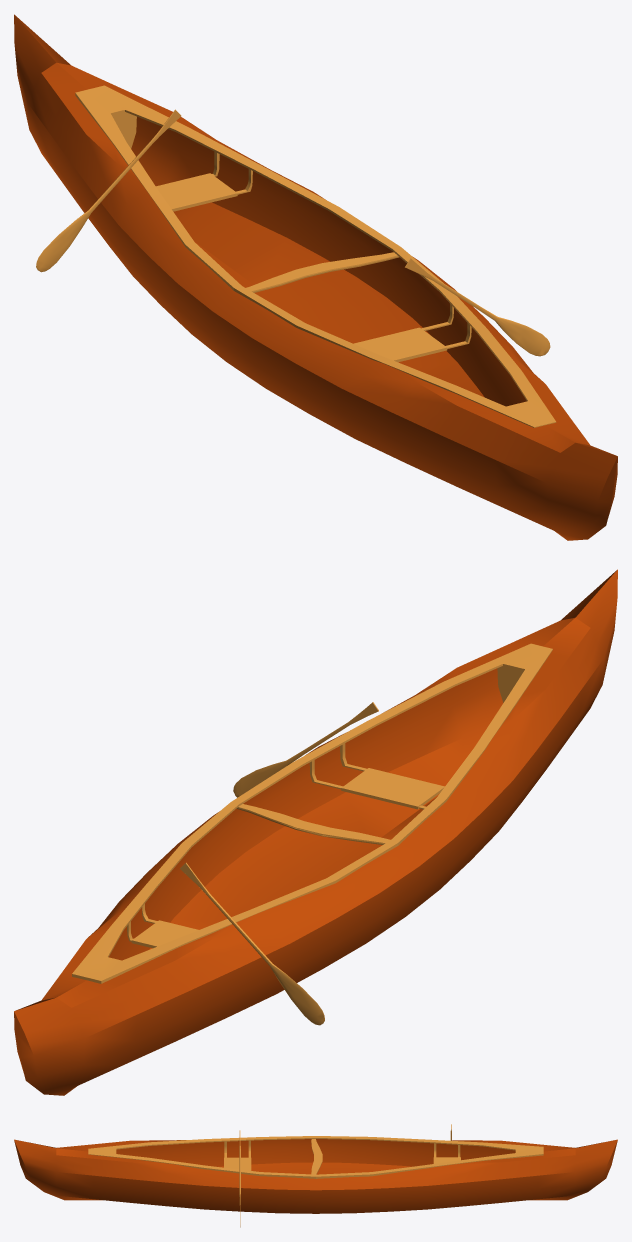
File: low_poly_canoe__stylized_game_asset.glb
The picture shows the model from 3 angles, top to bottom: view 1: azimuth 30°, elevation 25°; view 2: azimuth 150°, elevation 25°; view 3: azimuth 270°, elevation 25°; orthographic projection. The views are drawn at different scales.
Visible parts, largest first — view 1: Canoe, Canoe_Paddle, Canoe_Paddle_2; view 2: Canoe, Canoe_Paddle, Canoe_Paddle_2; view 3: Canoe, Canoe_Paddle_2.
Boxes of the visible parts, <box> form: Canoe: <box>14,14,617,540</box>; Canoe_Paddle: <box>36,109,181,272</box>; Canoe_Paddle_2: <box>405,258,550,356</box>; Canoe: <box>14,569,617,1095</box>; Canoe_Paddle: <box>180,862,324,1025</box>; Canoe_Paddle_2: <box>233,702,378,797</box>; Canoe: <box>14,1136,617,1213</box>; Canoe_Paddle_2: <box>239,1130,240,1227</box>.
Size of the model in its own units: 2.64 by 1.24 by 9.11.
Materials: 1 (1 with a texture image).
